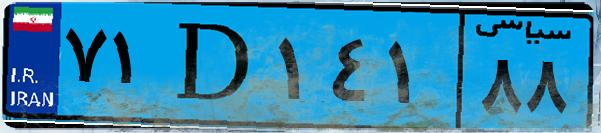1: (270, 28, 330, 110), (385, 28, 445, 110), (110, 28, 158, 98)
4: (330, 28, 385, 110)
7: (57, 26, 110, 100)
8: (475, 38, 525, 113), (525, 38, 570, 115)
D: (158, 12, 270, 120)
